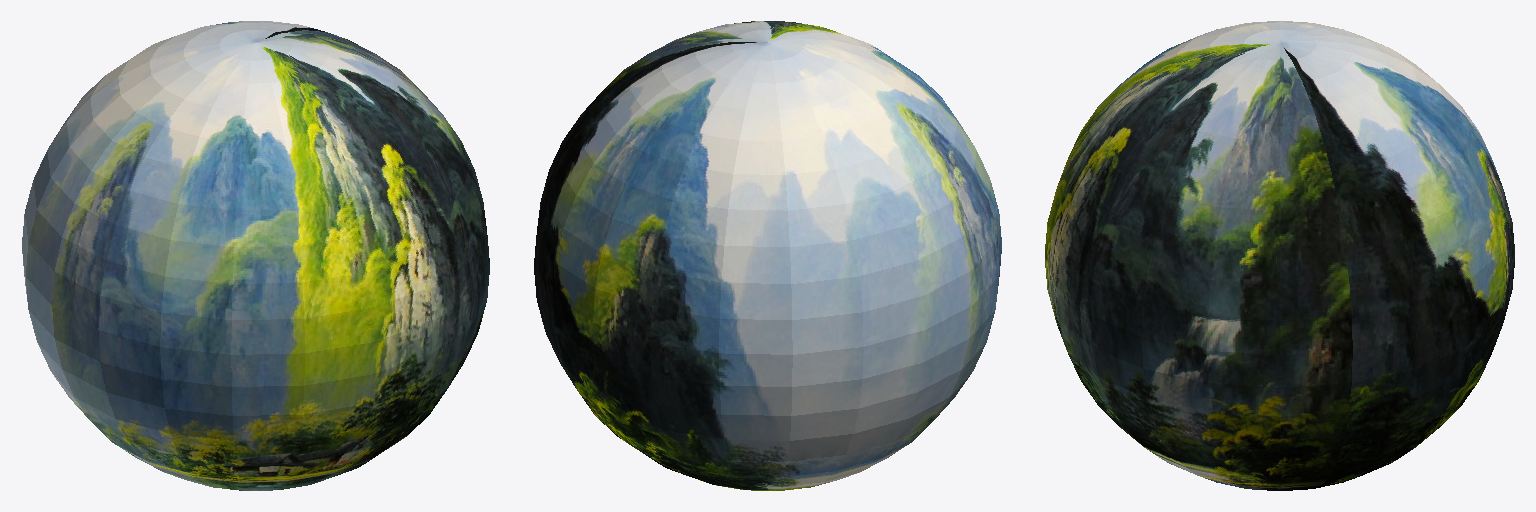
The picture shows the model from 3 angles: view 1: azimuth 30°, elevation 25°; view 2: azimuth 150°, elevation 25°; view 3: azimuth 270°, elevation 25°; orthographic projection.
Parts seen in each view (by area): view 1: pSphere1; view 2: pSphere1; view 3: pSphere1.
Part boxes in pixels (x1,y1,x2,y2): pSphere1: (22, 21, 489, 490); pSphere1: (534, 21, 1001, 490); pSphere1: (1045, 21, 1514, 490).
Bounding box in the file's own units: 4.07 × 4.07 × 4.07.
Materials: 1 (1 with a texture image).